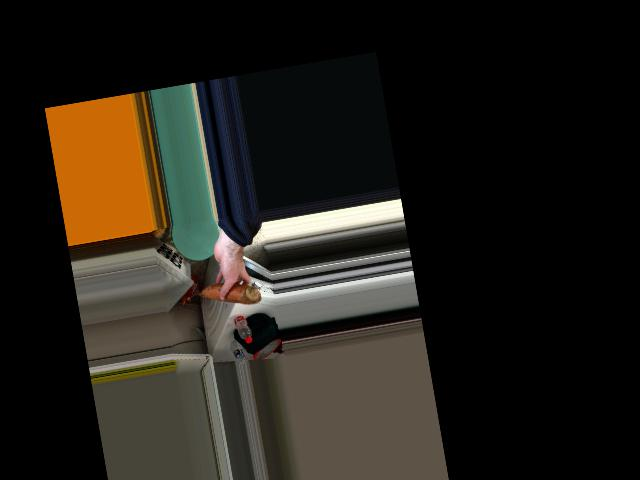sweet_potato: (195, 280, 261, 309)
